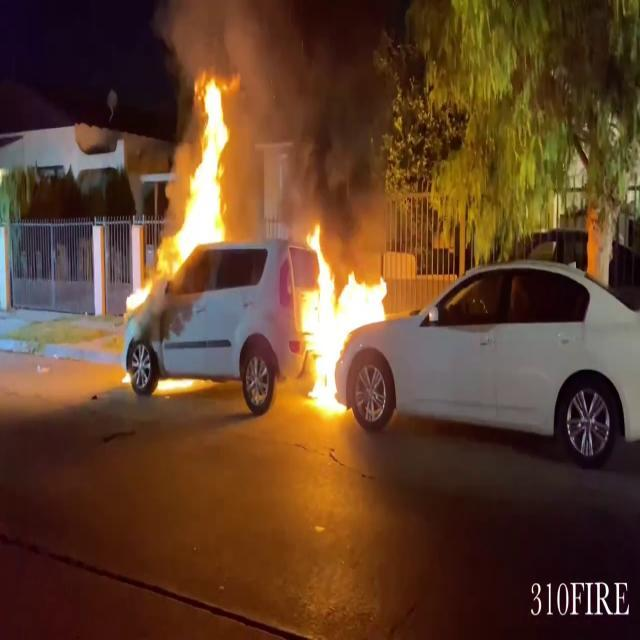Fire: (294, 219, 391, 417), (160, 67, 240, 273)
Smoke: (224, 0, 386, 226)
